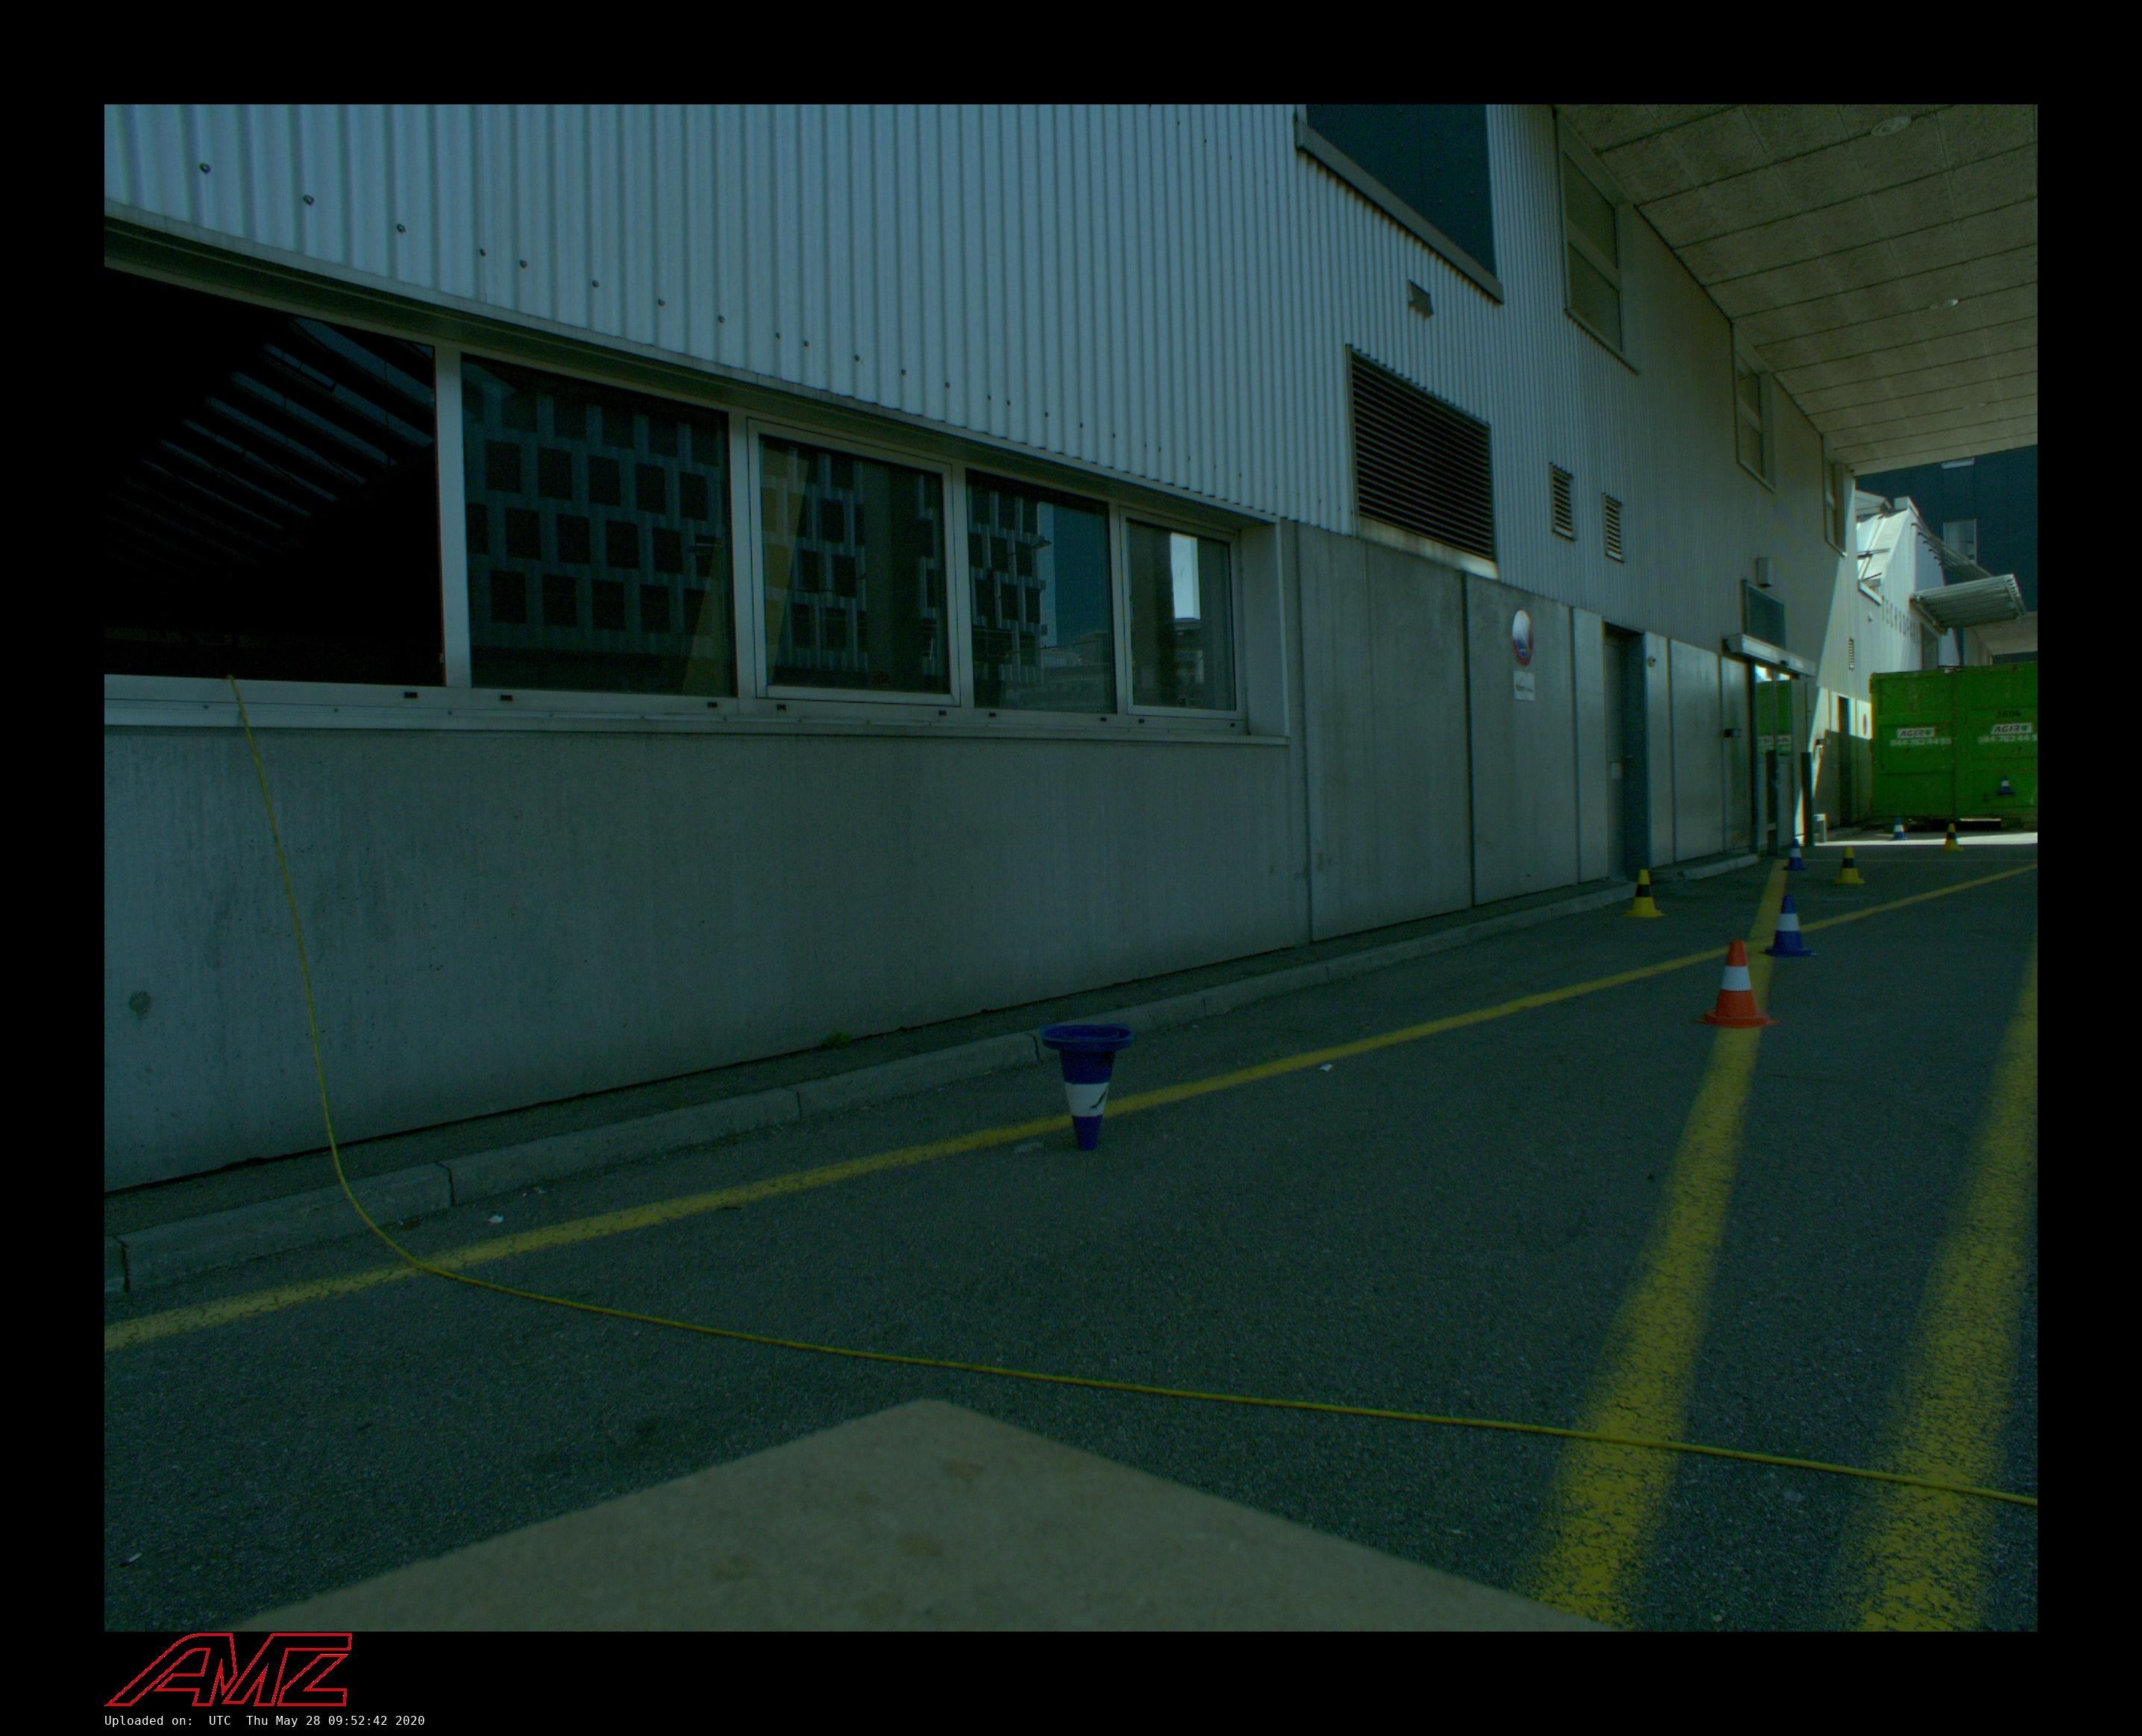blue_cone: (1040, 1022, 1134, 1150), (1761, 896, 1816, 958), (1784, 840, 1807, 870), (1890, 818, 1906, 840)
orange_cone: (1697, 939, 1777, 1027)
yellow_cone: (1626, 870, 1660, 918), (1835, 845, 1866, 884), (1940, 824, 1963, 850)
